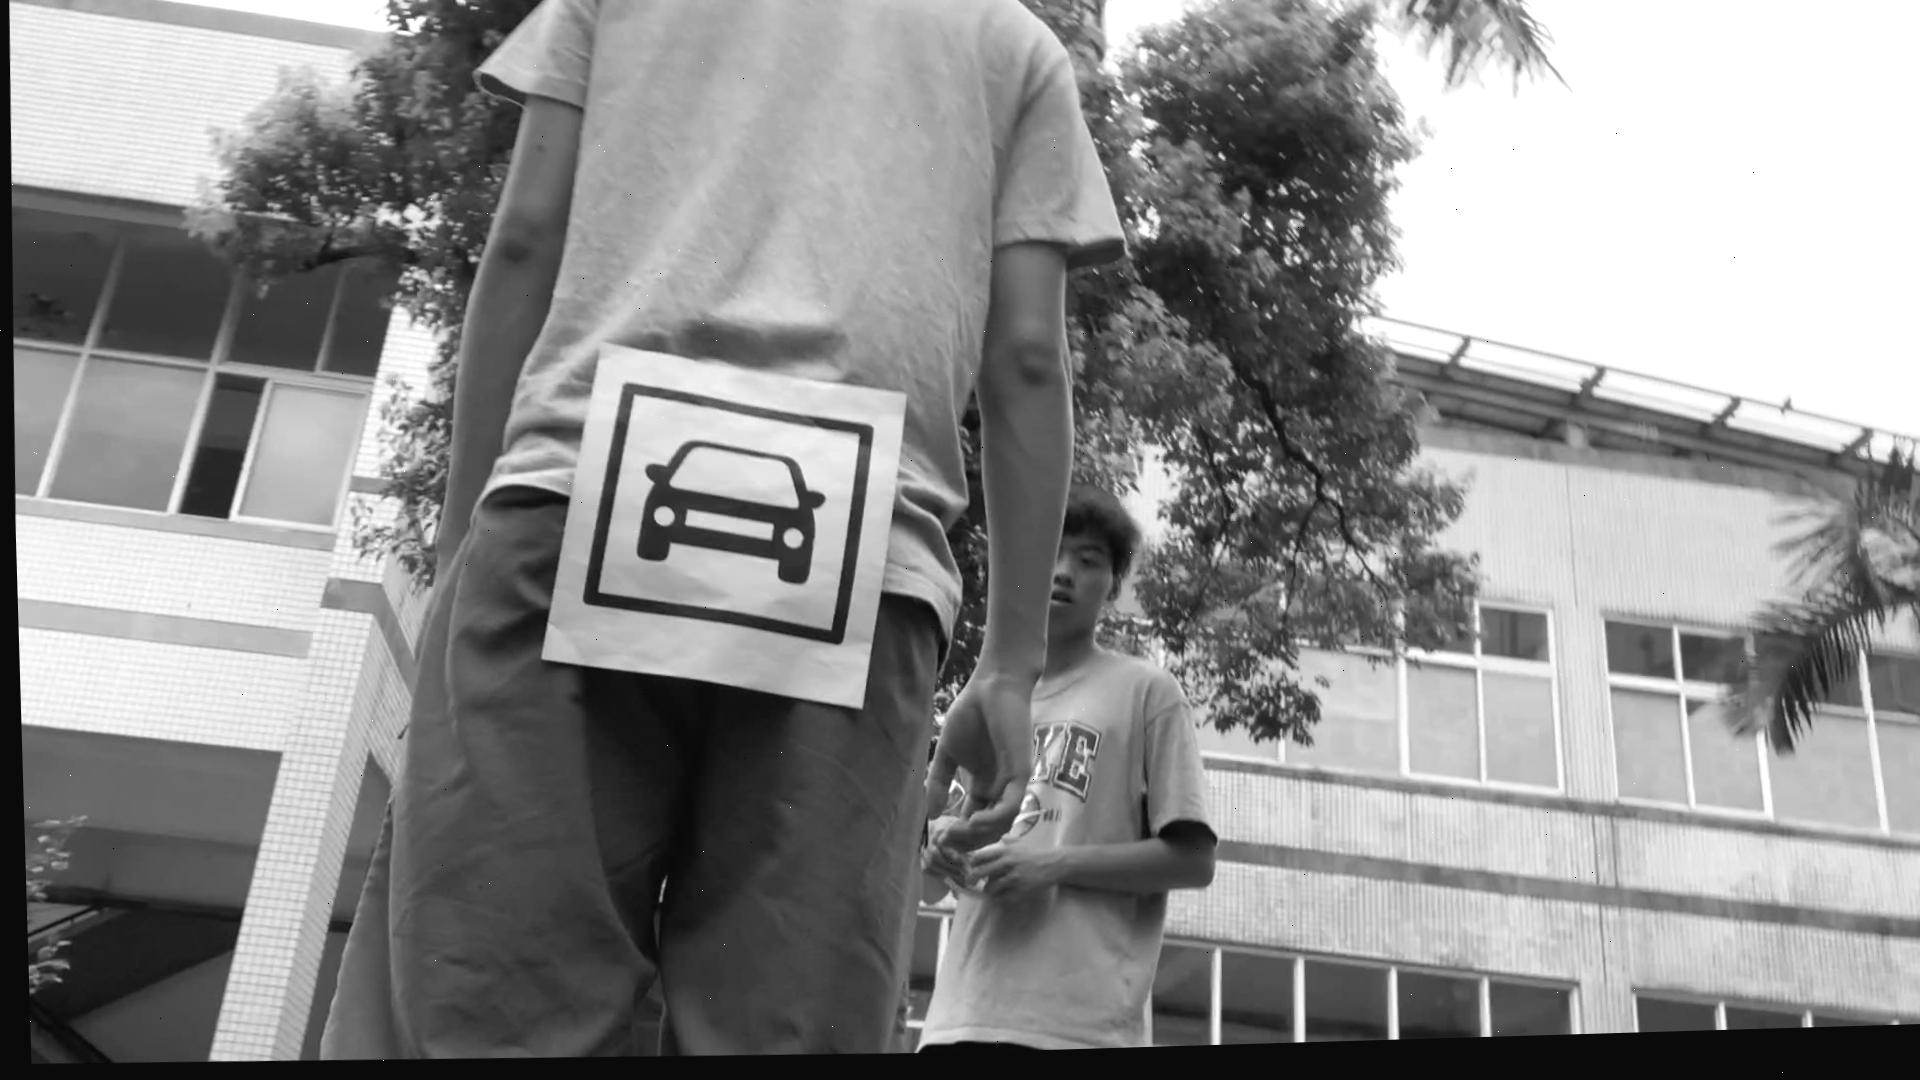car_img: (572, 378, 877, 655)
